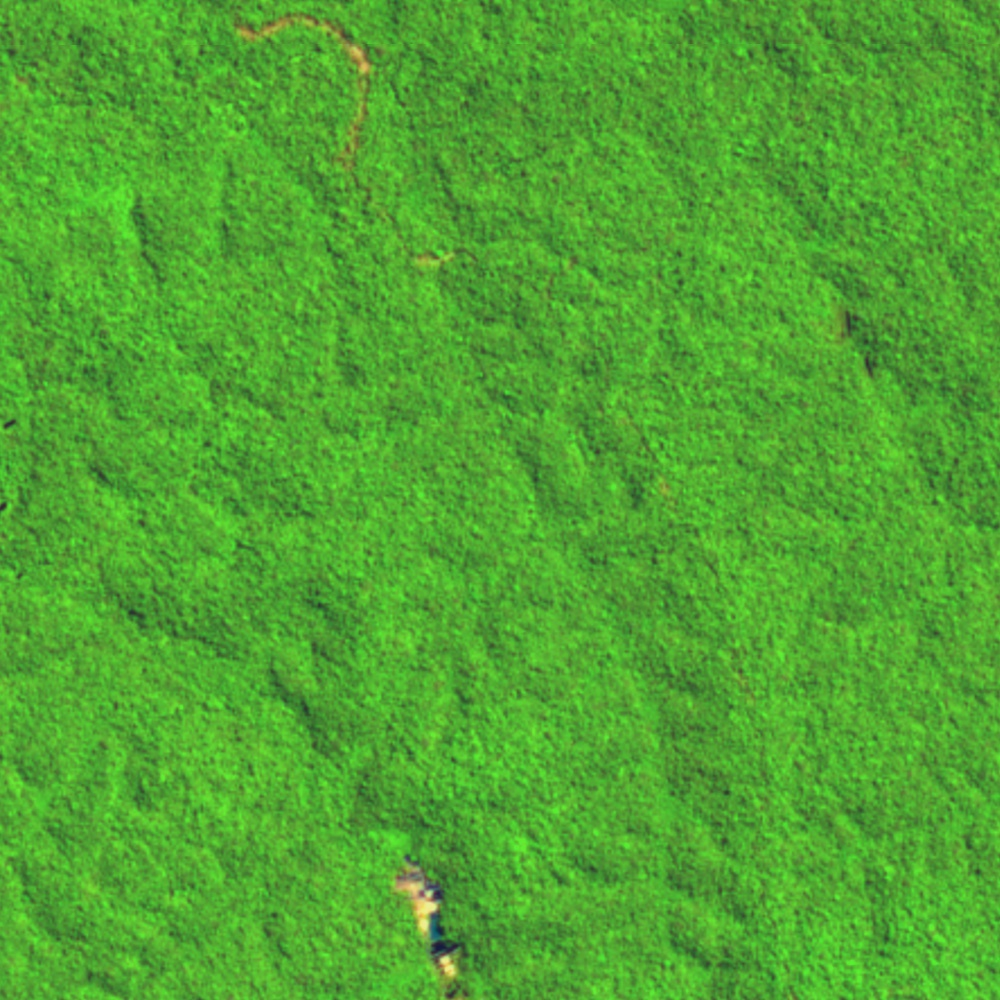illegal: (231, 1, 375, 195), (387, 845, 475, 1000), (834, 296, 881, 383), (404, 244, 486, 268), (1, 491, 22, 520), (1, 410, 24, 434)
